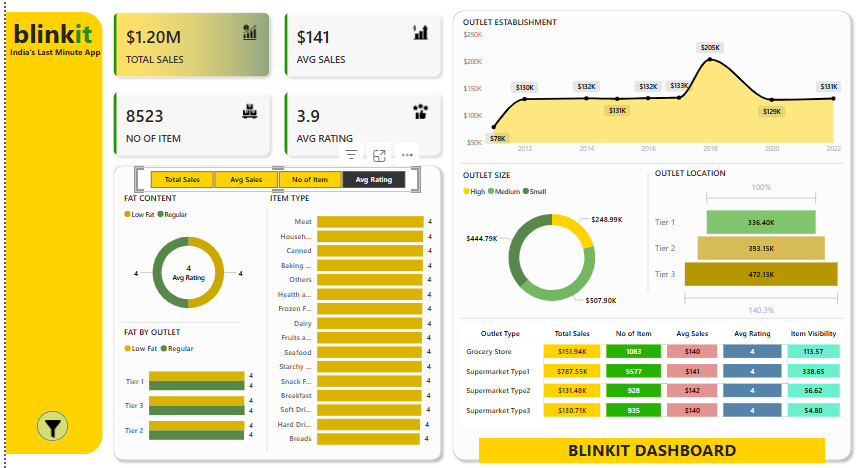

The dashboard page shown, as its layout file describes it:
{"tool":"powerbi","page":{"name":"Page 1","canvas":[1400,800],"ordinal":0},"visuals":[{"type":"shape","box":[0,39.2,158.4,721.6],"z":0},{"type":"textbox","box":[1.6,39.2,148.6,70.2],"z":1000},{"type":"textbox","box":[1.6,89.8,174.7,31],"z":2000},{"type":"group","id":"g1","title":"SlicerPanelHidden","box":[50.6,690.6,50.6,49],"z":5000},{"type":"cardVisual","fields":{"Data":["BlinkIT Grocery Data.Total Sales","BlinkIT Grocery Data.Avg Sales","BlinkIT Grocery Data.No of Item","BlinkIT Grocery Data.Avg Rating"]},"box":[158.4,22.9,569.8,269.4],"z":7000},{"type":"shape","box":[166.5,280.8,553.5,499.6],"z":8000},{"type":"shape","box":[50.6,690.6,50.6,49],"z":8000,"group":"g1"},{"type":"donutChart","title":"FAT CONTENT","fields":{"Y":["BlinkIT Grocery Data.Total Sales"],"Category":["BlinkIT Grocery Data.Item Fat Content"]},"box":[187.8,333.1,220.4,218.8],"z":9000},{"type":"image","box":[57.1,700.4,39.2,39.2],"z":9000,"group":"g1"},{"type":"slicer","fields":{"Values":["Metrics.Metrics"]},"box":[210.6,292.2,465.3,40.8],"z":10000},{"type":"cardVisual","fields":{"Data":["BlinkIT Grocery Data.Total Sales"]},"box":[251.4,431,93.1,63.7],"z":11000},{"type":"clusteredBarChart","title":"FAT BY OUTLET","fields":{"Y":["BlinkIT Grocery Data.Total Sales"],"Category":["BlinkIT Grocery Data.Outlet Location Type"],"Series":["BlinkIT Grocery Data.Item Fat Content"]},"box":[187.8,551.8,220.4,209],"z":12000},{"type":"shape","box":[187.8,540.4,194.3,11.4],"z":13000},{"type":"shape","box":[419.6,357.6,13.1,398.4],"z":14000},{"type":"barChart","title":"ITEM TYPE","fields":{"Y":["BlinkIT Grocery Data.Total Sales"],"Category":["BlinkIT Grocery Data.Item Type"]},"box":[426.1,333.1,274.3,427.8],"z":15000},{"type":"shape","box":[720,27.8,669.4,752.7],"z":16000},{"type":"lineChart","title":"OUTLET ESTABLISHMENT","fields":{"Category":["BlinkIT Grocery Data.Outlet Establishment Year"],"Y":["BlinkIT Grocery Data.Total Sales"]},"box":[741.2,45.7,626.9,235.1],"z":17000},{"type":"shape","box":[741.2,280.8,626.9,11.4],"z":18000},{"type":"donutChart","title":"OUTLET SIZE","fields":{"Y":["BlinkIT Grocery Data.Total Sales"],"Category":["BlinkIT Grocery Data.Outlet Size"]},"box":[741.2,295.5,300.4,244.9],"z":19000},{"type":"shape","box":[1041.6,302,13.1,192.7],"z":20000},{"type":"funnel","title":"OUTLET LOCATION","fields":{"Y":["Sum(BlinkIT Grocery Data.Sales)"],"Category":["BlinkIT Grocery Data.Outlet Location Type"]},"box":[1054.7,292.2,313.5,248.2],"z":21000},{"type":"shape","box":[741.2,533.9,626.9,11.4],"z":22000},{"type":"pivotTable","fields":{"Rows":["BlinkIT Grocery Data.Outlet Type"],"Values":["BlinkIT Grocery Data.Total Sales","BlinkIT Grocery Data.No of Item","BlinkIT Grocery Data.Avg Sales","BlinkIT Grocery Data.Avg Rating","Sum(BlinkIT Grocery Data.Item Visibility)"]},"box":[741.2,546.9,626.9,168.2],"z":23000},{"type":"shape","title":"BLINKIT DASHBOARD","box":[772.2,734.7,564.9,40.8],"z":24000}]}

Visuals, with their boxes on the page's 1400x800 design canvas (x1, y1, x2, y2). These are canvas units, not pixel positions in the 860x468 screenshot, which may show the page scaled, cropped or inside an application window:
shape: [0,39,158,761]
textbox: [2,39,150,109]
textbox: [2,90,176,121]
"SlicerPanelHidden" group: [51,691,101,740]
cardVisual - BlinkIT Grocery Data.Total Sales x BlinkIT Grocery Data.Avg Sales: [158,23,728,292]
shape: [166,281,720,780]
shape: [51,691,101,740]
"FAT CONTENT" donutChart: [188,333,408,552]
image: [57,700,96,740]
slicer - Metrics.Metrics: [211,292,676,333]
cardVisual - BlinkIT Grocery Data.Total Sales: [251,431,344,495]
"FAT BY OUTLET" clusteredBarChart: [188,552,408,761]
shape: [188,540,382,552]
shape: [420,358,433,756]
"ITEM TYPE" barChart: [426,333,700,761]
shape: [720,28,1389,780]
"OUTLET ESTABLISHMENT" lineChart: [741,46,1368,281]
shape: [741,281,1368,292]
"OUTLET SIZE" donutChart: [741,296,1042,540]
shape: [1042,302,1055,495]
"OUTLET LOCATION" funnel: [1055,292,1368,540]
shape: [741,534,1368,545]
pivotTable - BlinkIT Grocery Data.Outlet Type x BlinkIT Grocery Data.Total Sales: [741,547,1368,715]
"BLINKIT DASHBOARD" shape: [772,735,1337,776]
